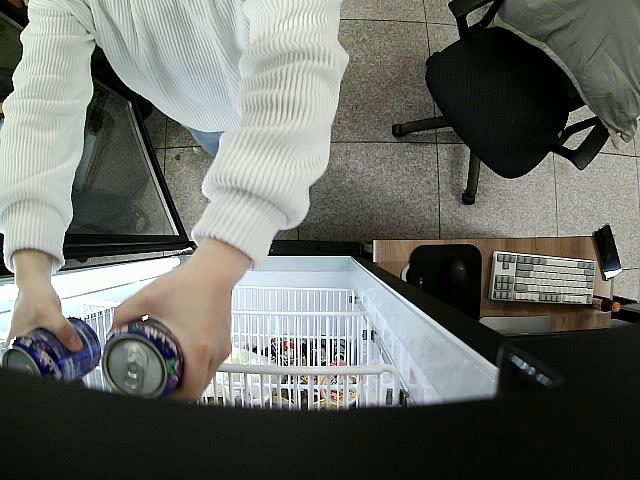00_hand: (110, 259, 232, 404), (6, 284, 84, 354)
14_welchsGrape: (0, 313, 101, 388), (101, 319, 186, 397)
